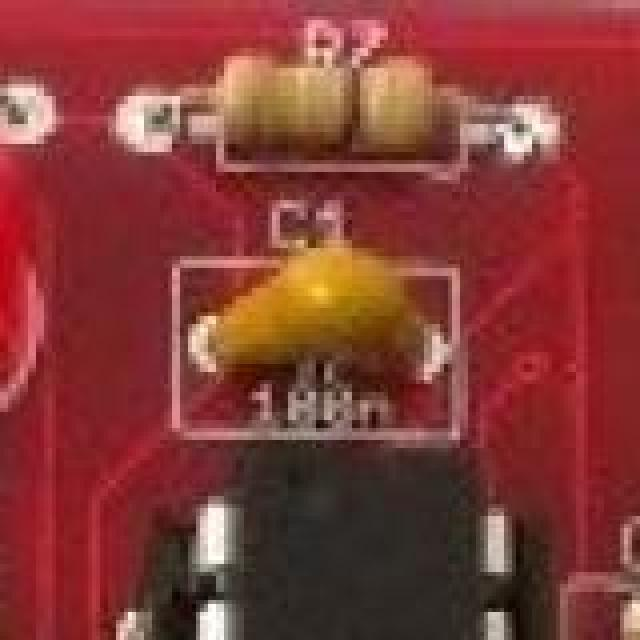IC: (140, 432, 488, 640)
LED: (0, 108, 48, 428)
capacitor: (188, 236, 460, 414), (620, 592, 640, 640)
resistor: (208, 60, 462, 172), (0, 48, 32, 132), (0, 568, 20, 640)
